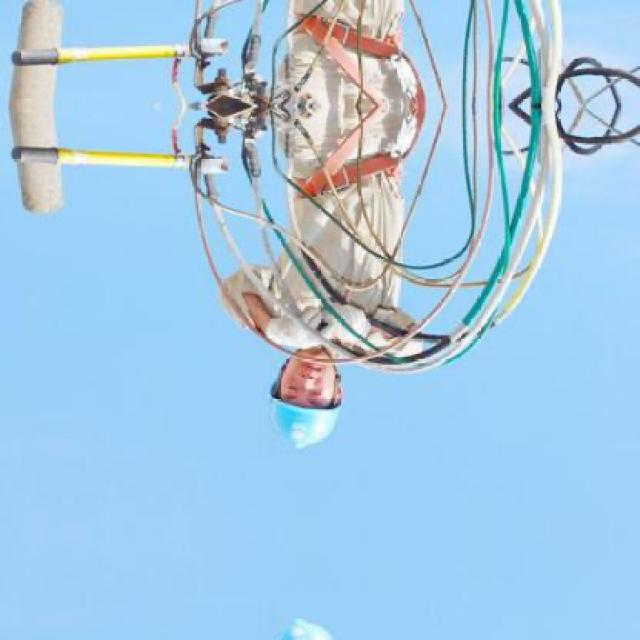con casco: (208, 338, 376, 457)
